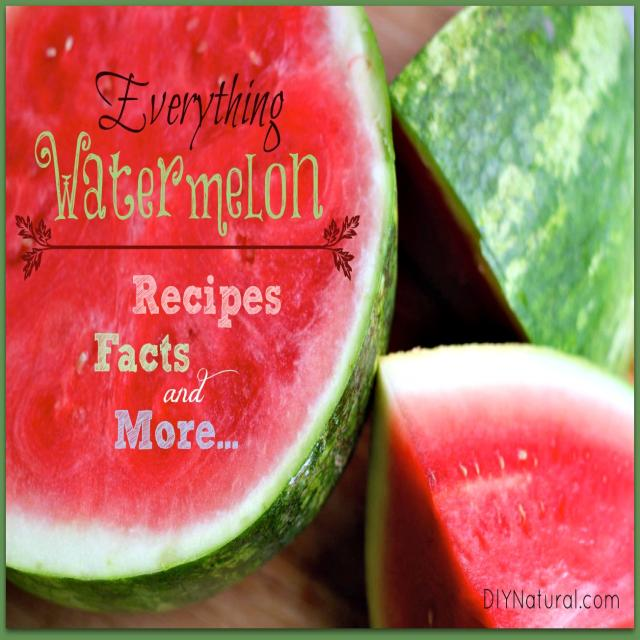watermelon: (6, 5, 397, 611), (387, 5, 640, 389), (365, 342, 635, 628)
